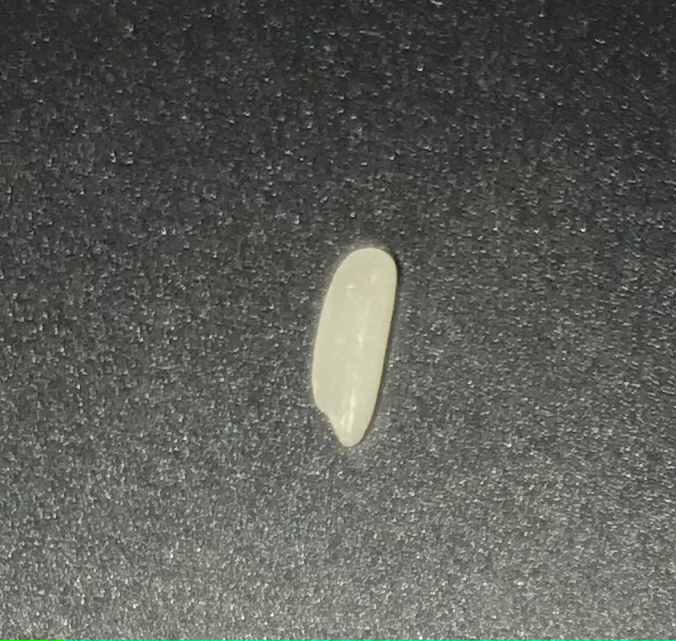Gao Tam Thom: (314, 236, 401, 450)
